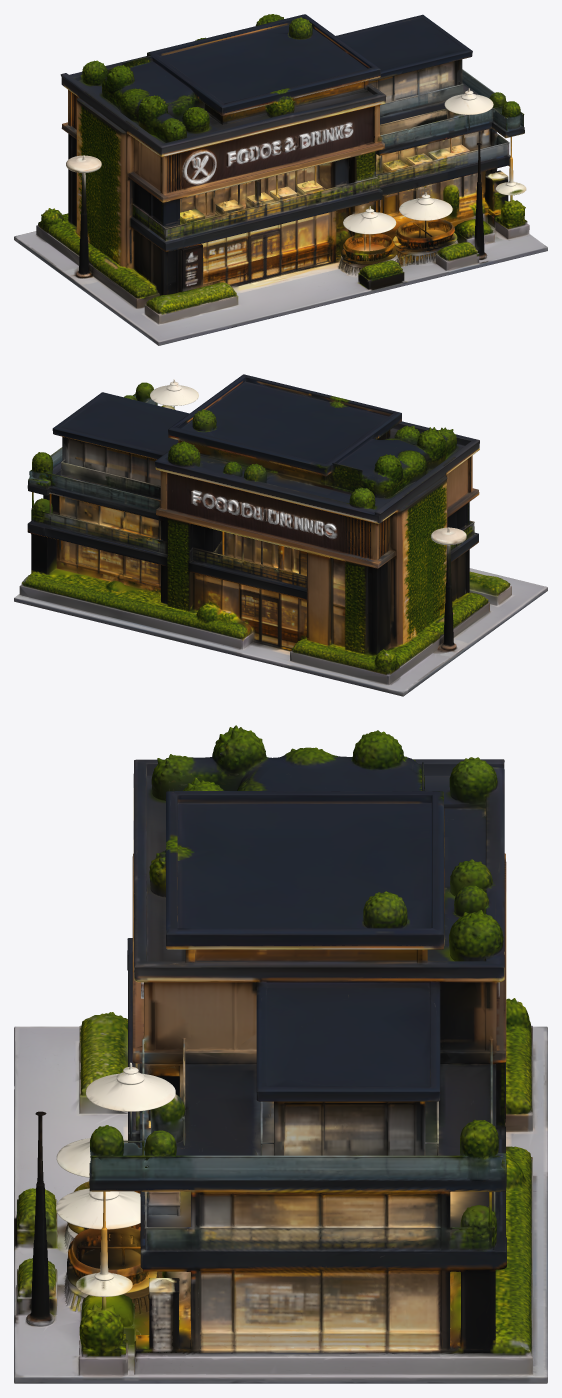
The model's file is foodhouse.glb.
3 renders of one model, top to bottom at view 1: azimuth 30°, elevation 25°; view 2: azimuth 150°, elevation 25°; view 3: azimuth 270°, elevation 25°, orthographic. The views are drawn at different scales.
Parts seen in each view (by area): view 1: node_0; view 2: node_0; view 3: node_0.
Part boxes in pixels (bbox=[...]): node_0: bbox=[14, 14, 547, 345]; node_0: bbox=[14, 374, 547, 696]; node_0: bbox=[14, 725, 547, 1383].
Bounding box in the file's own units: 0.9435 × 0.4454 × 0.6018.
1 material, 1 textured.
